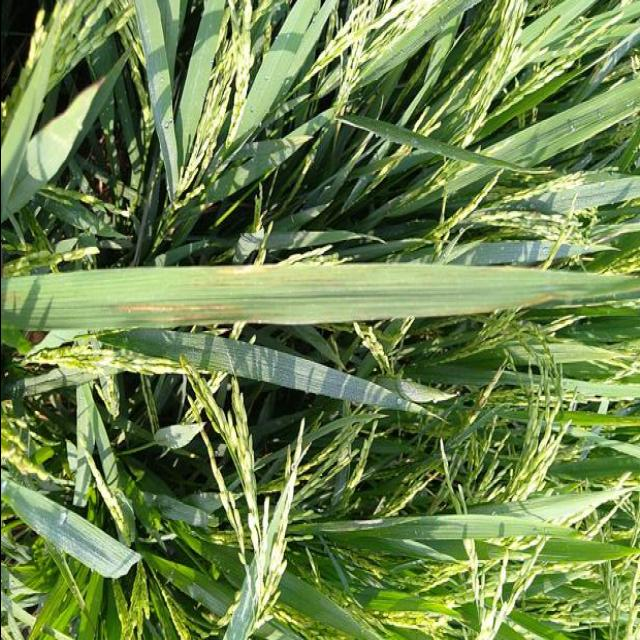Leaf Streak: (105, 302, 242, 331), (196, 265, 276, 279)
